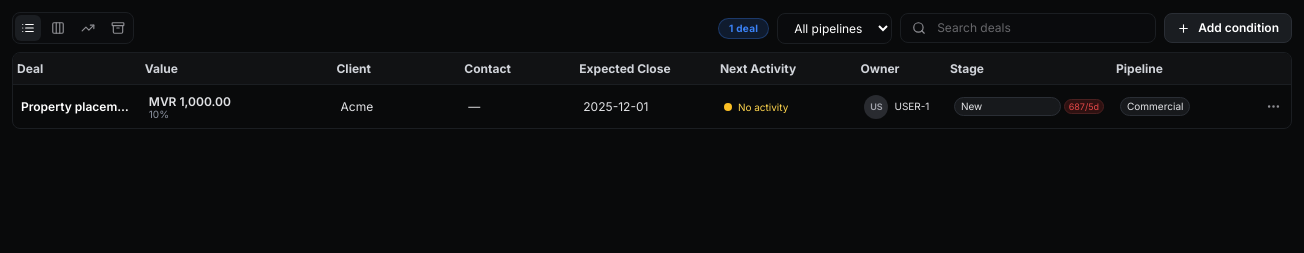
Deal list row accessibility › omits the Open status from the deal action menu
What coordinates should you click on to do the following:
click the button named "Actions for Property placement"
I would click on:
 (1274, 106)
Its box is [1260,93,1287,120].
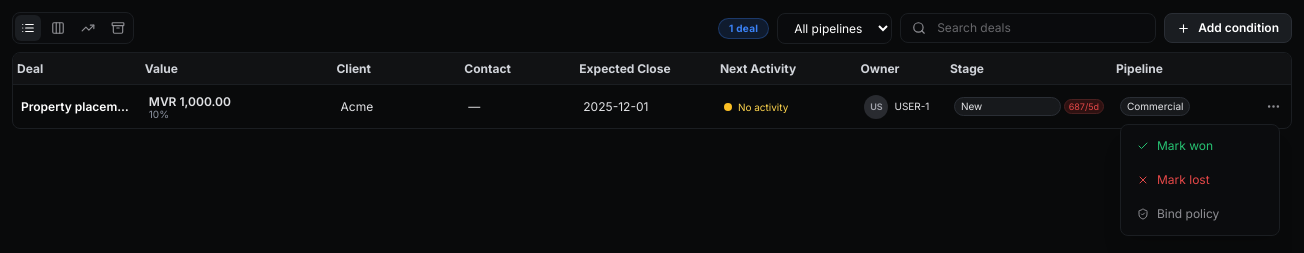
Now the menu is shown, box [1120,124,1280,236]
